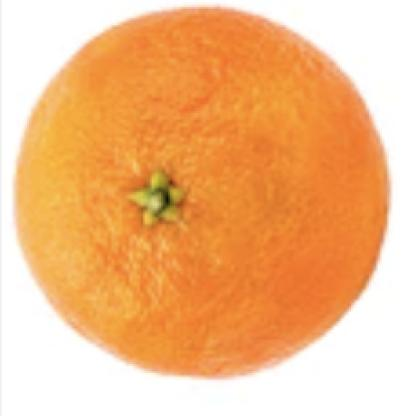fresh: (19, 6, 387, 379)
